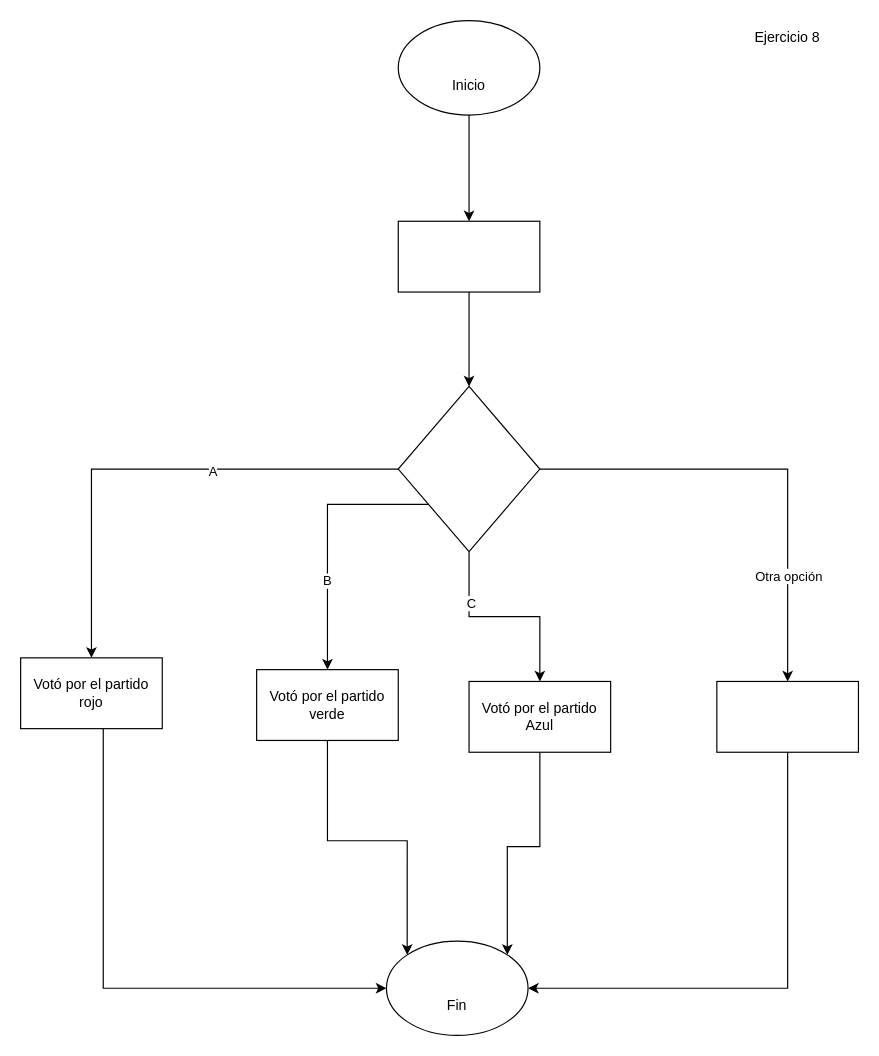
Image size: 879x1056. Some labels were removed from this diagram. Here are the shapes that lost their labels. From the top down, the box of each, then its label:
(397, 220, 540, 292): Solicitar candidato A, B o C
(397, 385, 540, 552): ¿Candidato?
(716, 680, 858, 752): Opcion errónea
